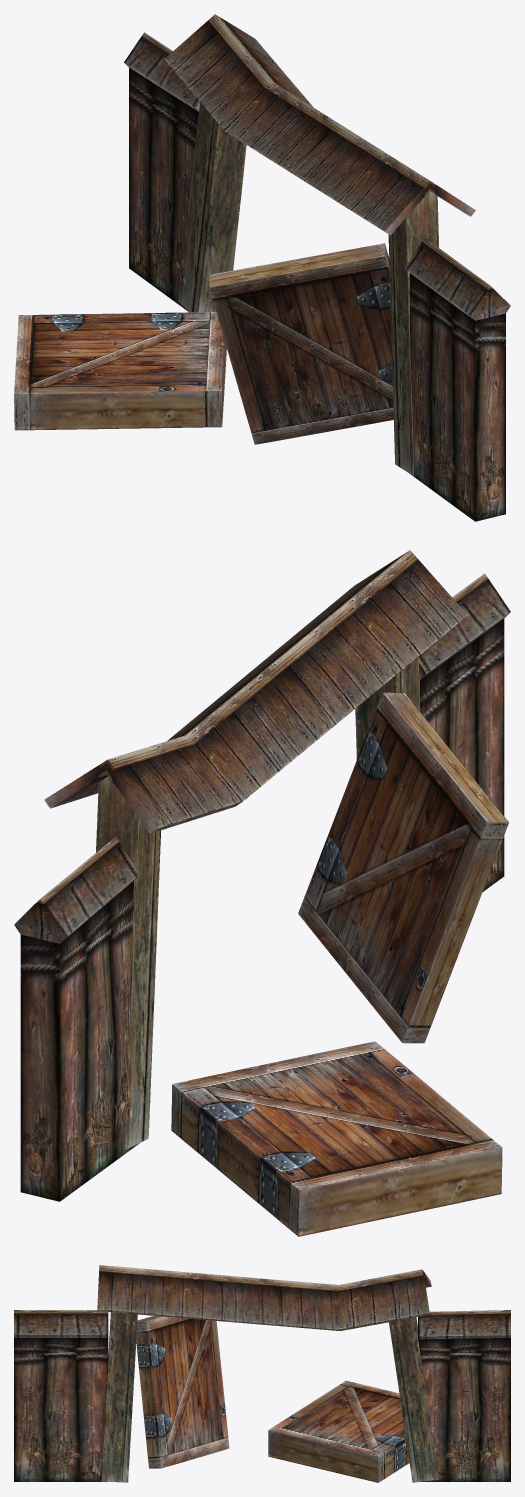
Rendered from S_RFGat1.glb.
The picture shows the model from 3 angles, top to bottom: view 1: azimuth 30°, elevation 25°; view 2: azimuth 150°, elevation 25°; view 3: azimuth 270°, elevation 25°; orthographic projection. The views are drawn at different scales.
Parts seen in each view (by area): view 1: S_RFGat1; view 2: S_RFGat1; view 3: S_RFGat1.
Part boxes in pixels (bbox=[...]): S_RFGat1: bbox=[14, 14, 510, 521]; S_RFGat1: bbox=[14, 550, 510, 1236]; S_RFGat1: bbox=[14, 1265, 510, 1482].
Size of the model in its own units: 4.99 by 5.04 by 10.
Materials: 7 (7 with a texture image).
